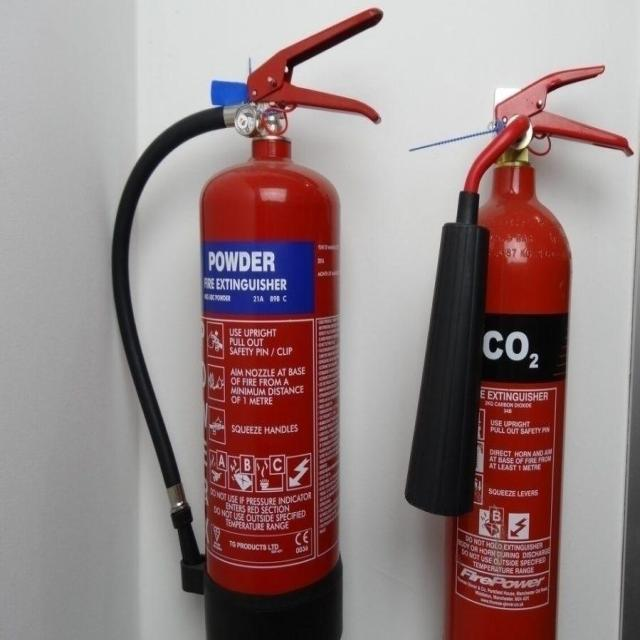fire_extinguisher: (104, 3, 387, 639), (398, 58, 635, 639)
